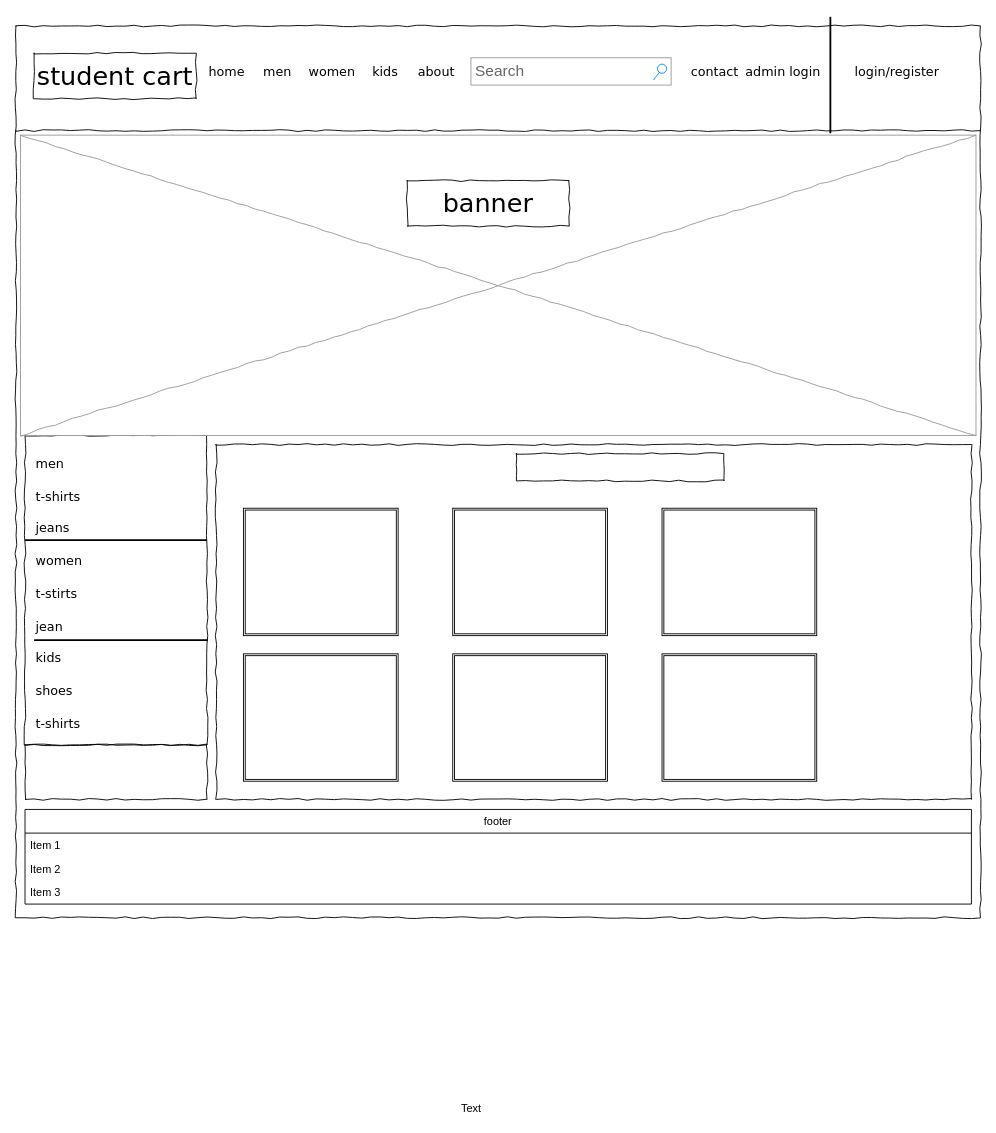
This 996x1133 diagram has some shape labels left out. Each missing label, with the box of its shape:
latest_products: (516, 453, 724, 481)
payments methods: (24, 744, 207, 799)
